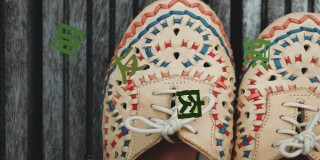友: (111, 48, 147, 85)
朋: (49, 22, 85, 59)
肉: (175, 89, 204, 119)
酒: (241, 36, 272, 70)
